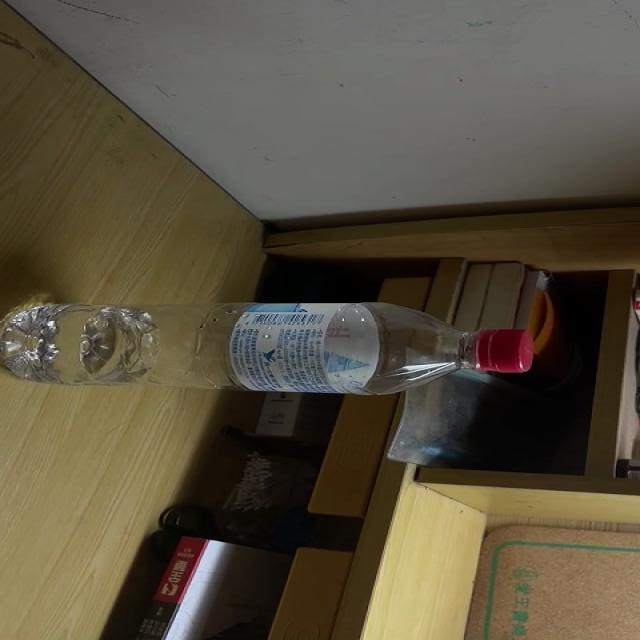Water: (0, 303, 535, 394)
